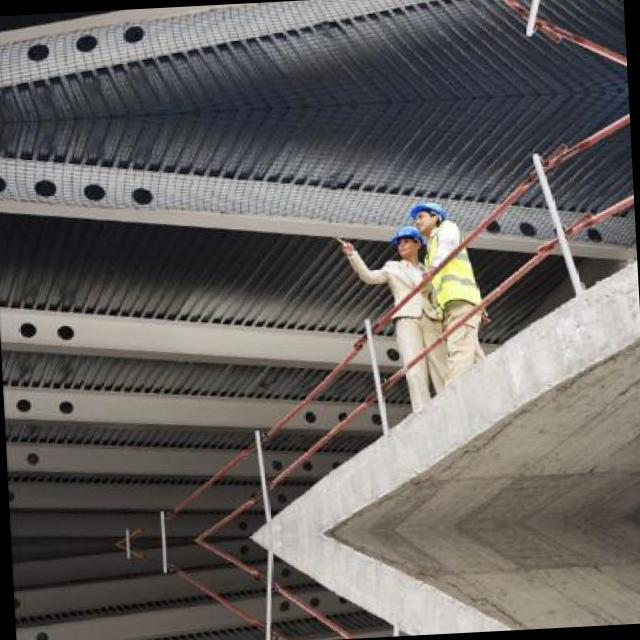helmet: (388, 222, 422, 261), (408, 198, 446, 230), (397, 0, 434, 4)
